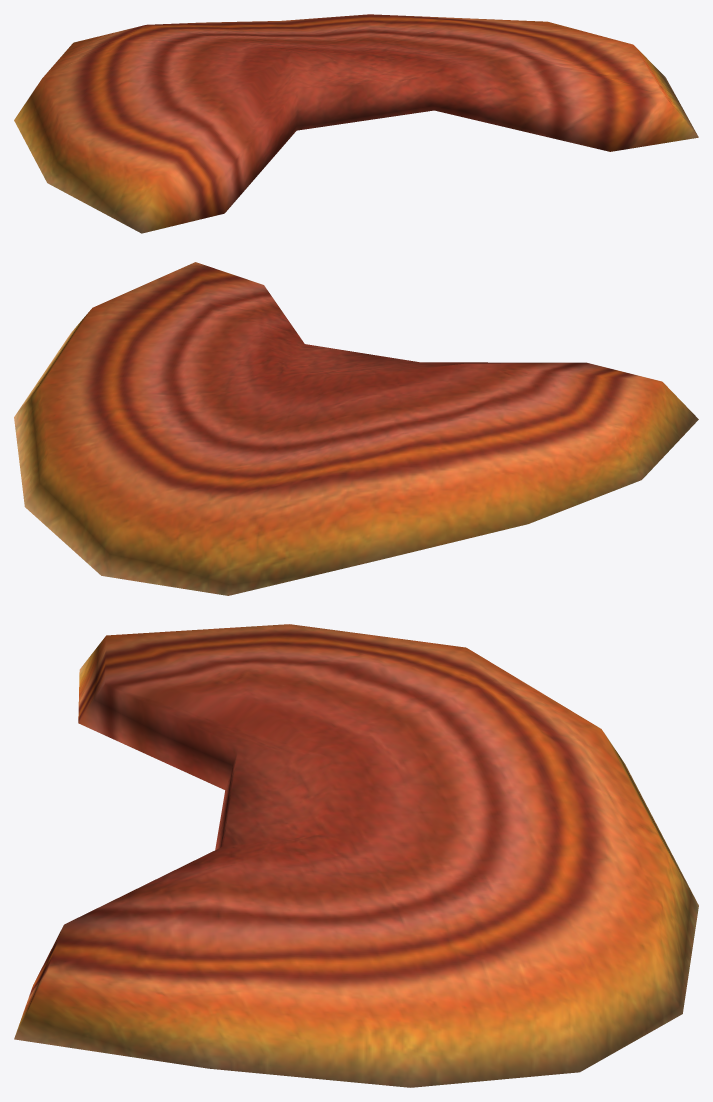
File: conks 2.fbx
3 views of the same model, one above another, from view 1: azimuth 30°, elevation 25°; view 2: azimuth 150°, elevation 25°; view 3: azimuth 270°, elevation 25° (orthographic). The views are drawn at different scales.
Parts seen in each view (by area): view 1: conks_2; view 2: conks_2; view 3: conks_2.
Boxes of the visible parts, x1,y1,x2,y2 form: conks_2: (14, 14, 698, 233); conks_2: (14, 262, 698, 595); conks_2: (14, 624, 698, 1087).
Size of the model in its own units: 0.977 by 0.2186 by 0.7319.
